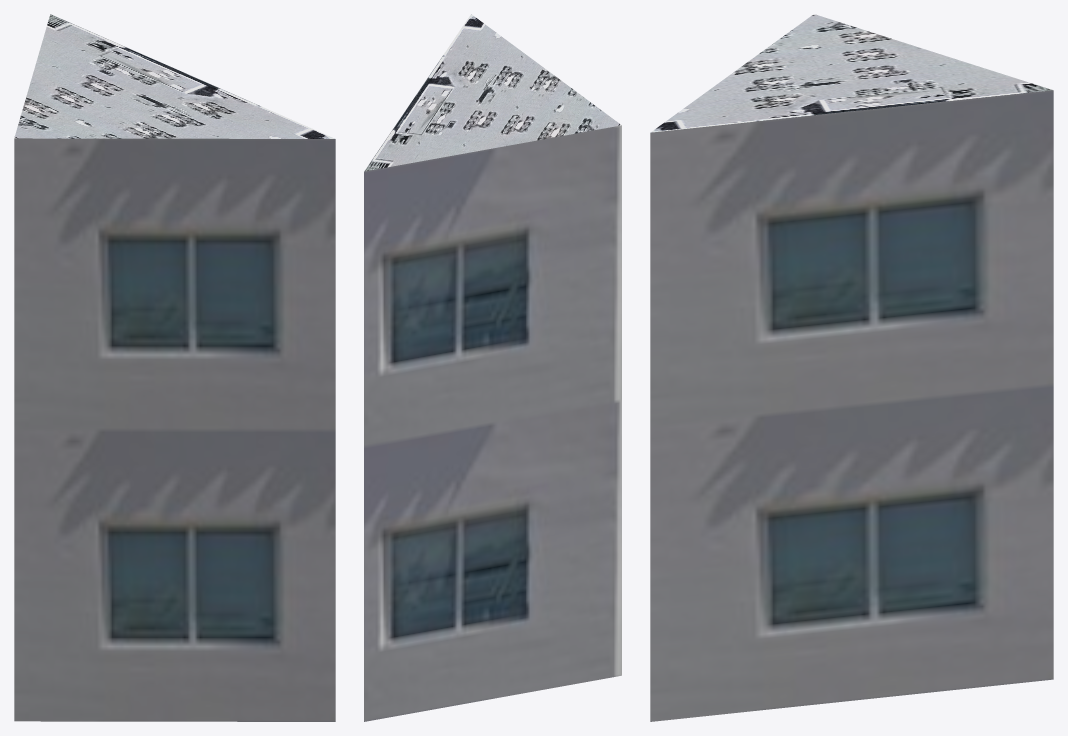
The model's file is ResTex__748.fbx.
3 renders of one model, left to right at view 1: azimuth 30°, elevation 25°; view 2: azimuth 150°, elevation 25°; view 3: azimuth 270°, elevation 25°, orthographic. The views are drawn at different scales.
Visible parts, largest first — view 1: CityEngineMaterial_10_m, CityEngineMaterial_8_m; view 2: CityEngineMaterial_10_m, CityEngineMaterial_8_m; view 3: CityEngineMaterial_10_m, CityEngineMaterial_8_m.
Part boxes in pixels (x1,y1,x2,y2): CityEngineMaterial_10_m: (14,138,335,721); CityEngineMaterial_8_m: (14,14,334,138); CityEngineMaterial_10_m: (364,125,621,721); CityEngineMaterial_8_m: (364,14,621,171); CityEngineMaterial_10_m: (650,90,1053,721); CityEngineMaterial_8_m: (651,14,1052,132).
Bounding box in the file's own units: 2.59 × 6 × 3.72.
2 materials, 2 textured.
